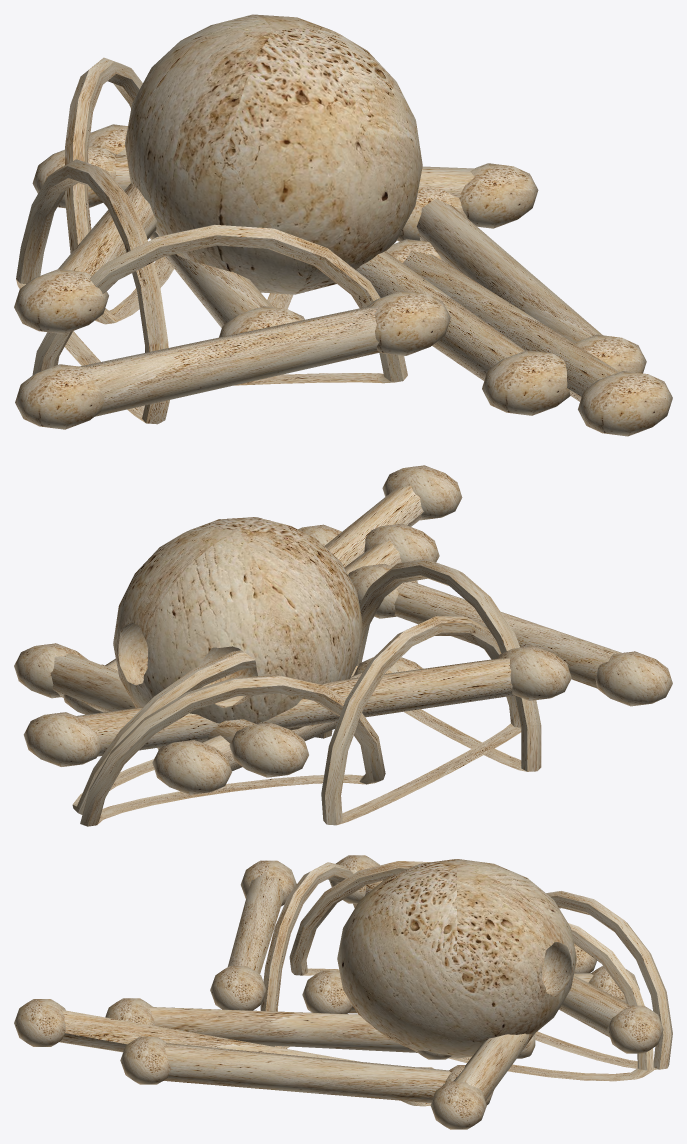
File: bone-pile-v01.glb
3 views of the same model, one above another, from view 1: azimuth 30°, elevation 25°; view 2: azimuth 150°, elevation 25°; view 3: azimuth 270°, elevation 25° (orthographic). The views are drawn at different scales.
Parts seen in each view (by area): view 1: bone-pile; view 2: bone-pile; view 3: bone-pile.
Boxes of the visible parts, x1,y1,x2,y2 form: bone-pile: (14, 14, 672, 436); bone-pile: (14, 465, 672, 826); bone-pile: (14, 855, 672, 1129).
Size of the model in its own units: 1.24 by 0.468 by 1.52.
1 material, 1 textured.
